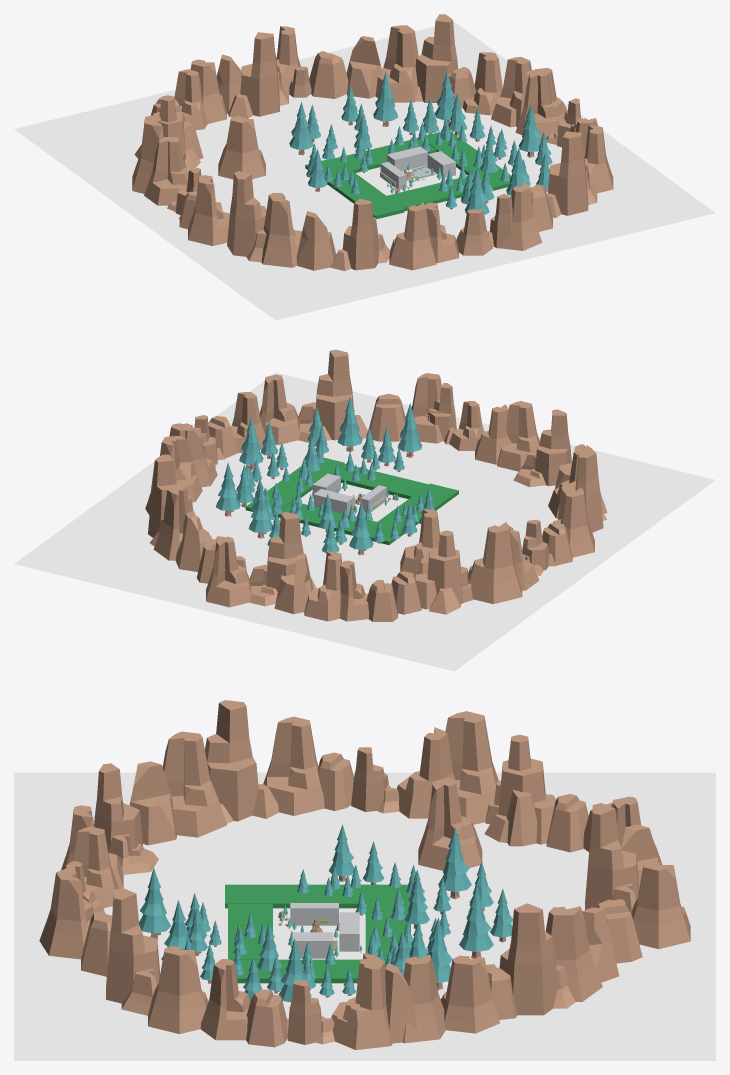
File: tutorial-client.glb
3 views of the same model, one above another, from view 1: azimuth 30°, elevation 25°; view 2: azimuth 150°, elevation 25°; view 3: azimuth 270°, elevation 25° (orthographic). The views are drawn at different scales.
Visible parts, largest first — view 1: map, ground, instanced_trees (×4), bounds2, bounds1; view 2: map, ground, instanced_trees (×4), bounds2; view 3: map, ground, instanced_trees (×4), bounds1, bounds3, bounds2.
Boxes of the visible parts, x1,y1,x2,y2 form: map: (132, 14, 613, 270); ground: (14, 21, 715, 320); instanced_trees (×4): (305, 131, 511, 219); bounds2: (387, 146, 427, 171); bounds1: (427, 151, 455, 177); map: (145, 349, 607, 621); ground: (14, 372, 715, 671); instanced_trees (×4): (245, 457, 458, 544); bounds2: (313, 489, 354, 514); map: (39, 700, 690, 1049); ground: (14, 772, 715, 1060); instanced_trees (×4): (225, 884, 411, 983); bounds1: (292, 932, 333, 958); bounds3: (290, 903, 338, 925); bounds2: (339, 912, 359, 951).
Size of the model in its own units: 134 by 24.28 by 138.
